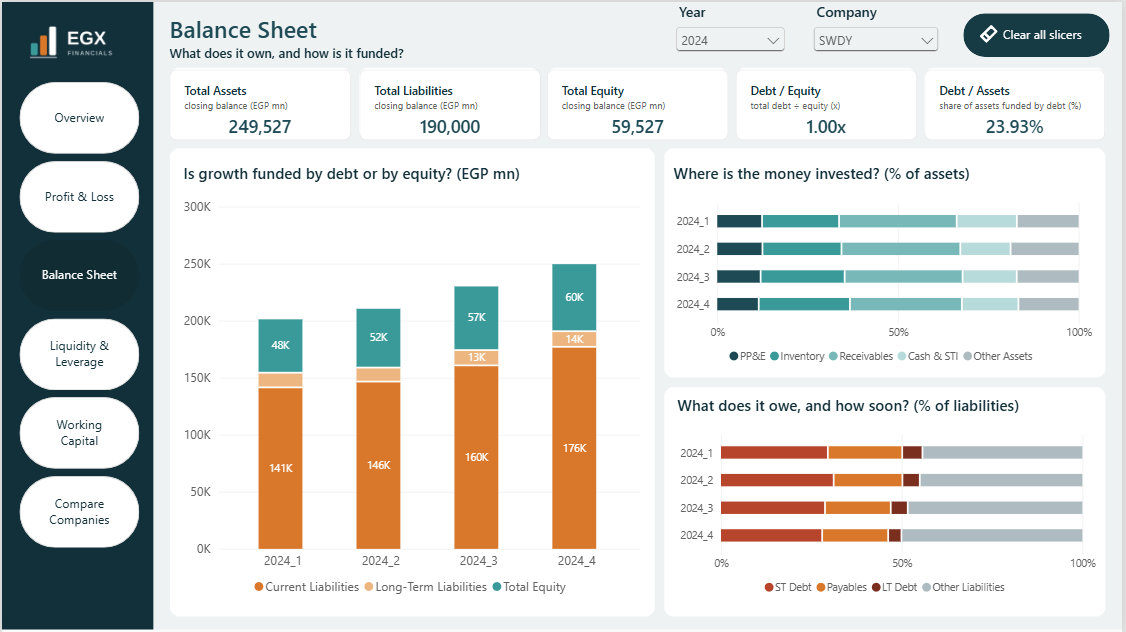

This screenshot's page, from the dashboard's own definition file:
{"tool":"powerbi","page":{"name":"Balance Sheet","canvas":[1280,720],"ordinal":2},"visuals":[{"type":"slicer","fields":{"Values":["DimCalendar.Year"]},"box":[765,0,133.8,75],"z":0},{"type":"slicer","fields":{"Values":["DimCompany.Company"]},"box":[922.5,0,152.5,75],"z":1000},{"type":"actionButton","box":[1098.8,12.5,167.5,50],"z":2000},{"type":"pageNavigator","box":[20,91.2,137.5,537.5],"z":3000},{"type":"image","box":[24,14,125,60],"z":4000},{"type":"textbox","box":[192,12.5,560,56],"z":5000}]}

Visuals, with their boxes in screenshot pixels (x1, y1, x2, y2), scaled from the page's 1280x720 canvas onto the 1126x632 screenshot:
slicer - DimCalendar.Year: bbox(673, 0, 791, 66)
slicer - DimCompany.Company: bbox(812, 0, 946, 66)
actionButton: bbox(967, 11, 1114, 55)
pageNavigator: bbox(18, 80, 139, 552)
image: bbox(21, 12, 131, 65)
textbox: bbox(169, 11, 662, 60)
